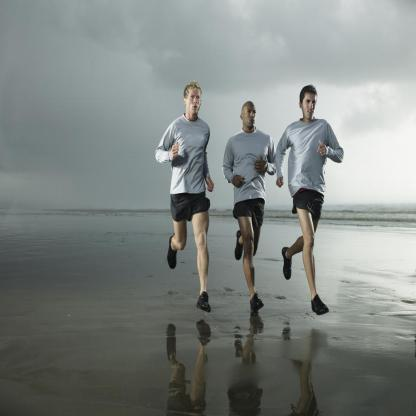face: (187, 88, 201, 115), (304, 92, 318, 119), (244, 103, 257, 128)
